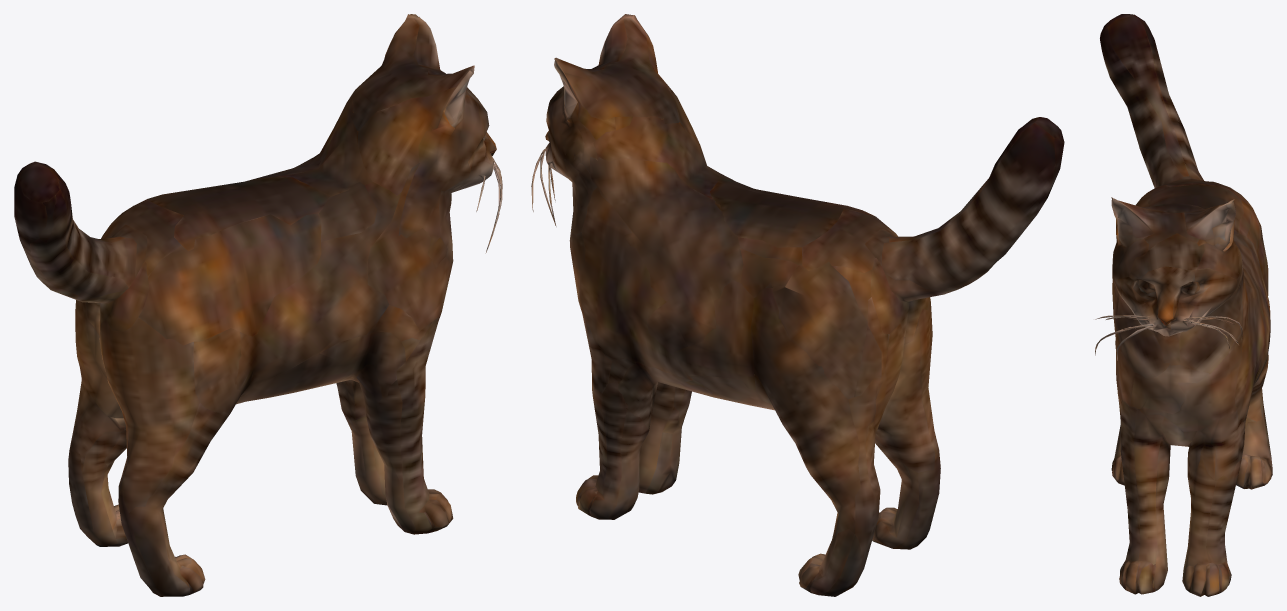
The model's file is PICKLECCAT-lo.glb.
The picture shows the model from 3 angles, left to right: view 1: azimuth 30°, elevation 25°; view 2: azimuth 150°, elevation 25°; view 3: azimuth 270°, elevation 25°; orthographic projection. The views are drawn at different scales.
Visible parts, largest first — view 1: material; view 2: material; view 3: material.
Part boxes in pixels (x1,y1,x2,y2): material: (14, 14, 502, 596); material: (531, 14, 1064, 596); material: (1095, 14, 1272, 596).
Bounding box in the file's own units: 1.13 × 0.9975 × 0.4035.
Materials: 1 (1 with a texture image).
